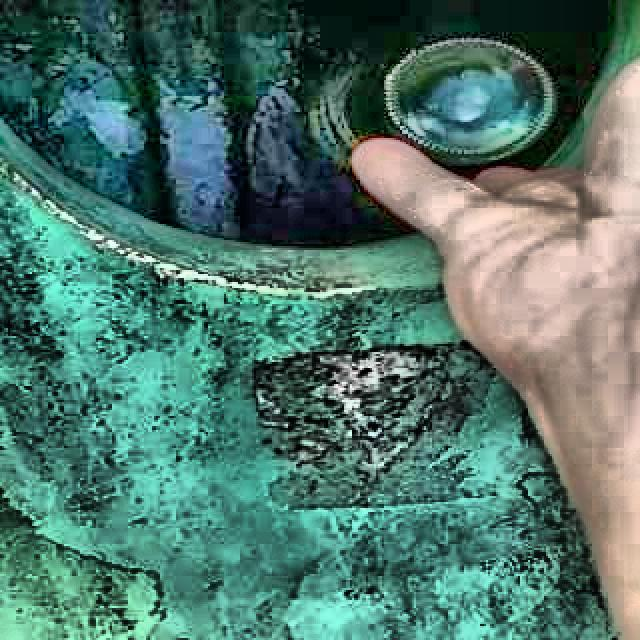glass: (315, 37, 557, 166)
